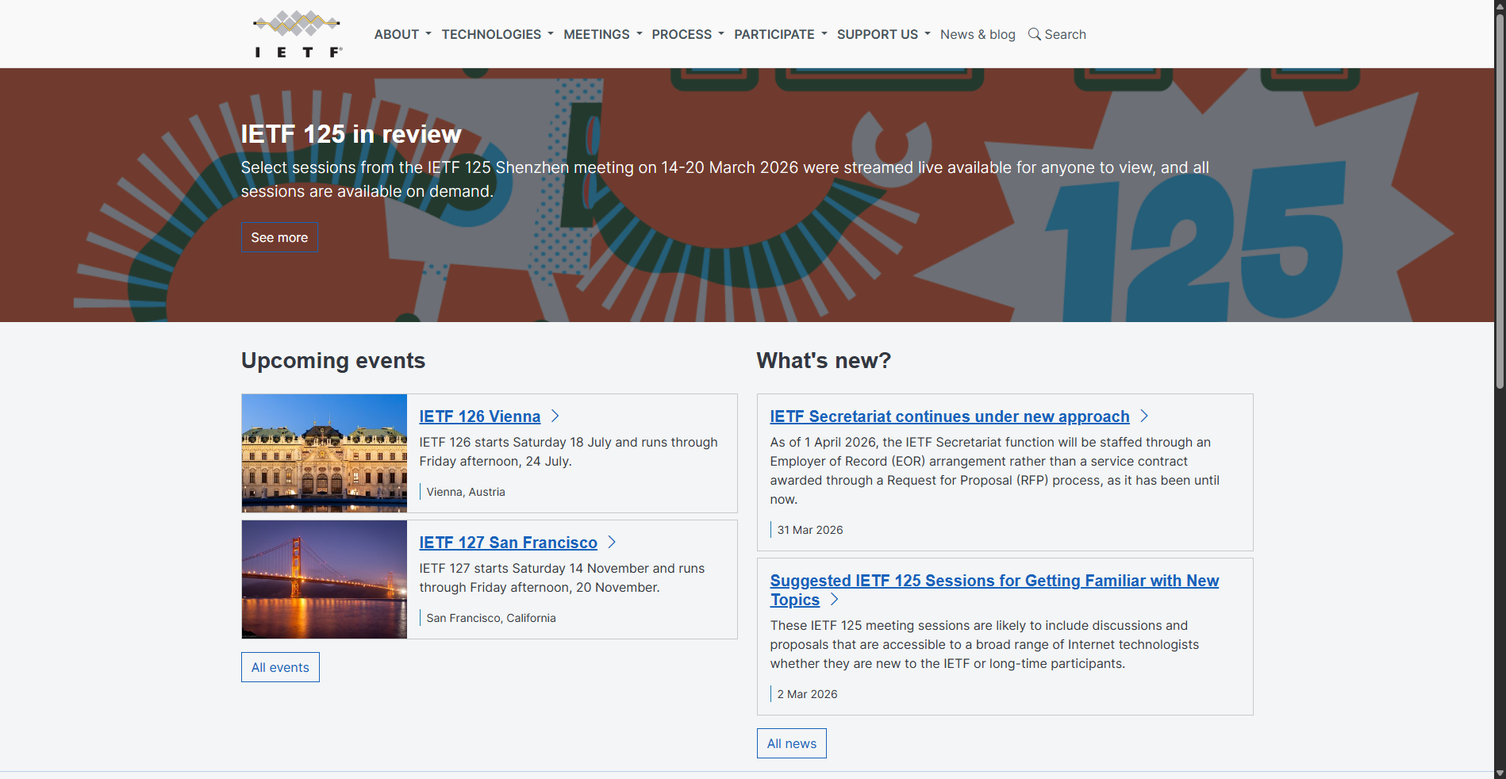general_button: (934, 18, 1022, 50), (241, 222, 318, 253), (241, 652, 320, 682), (757, 728, 827, 758)
general_image: (242, 520, 407, 639), (242, 394, 407, 512), (246, 4, 350, 63)
general_link: (770, 572, 1219, 608), (770, 408, 1152, 425), (246, 4, 350, 63), (419, 534, 620, 551), (419, 408, 563, 425)
icon_menu: (435, 18, 557, 56), (728, 18, 831, 56), (831, 18, 934, 56), (557, 18, 646, 56), (646, 18, 728, 56), (368, 18, 435, 56)
icon_search: (1022, 18, 1093, 50), (1028, 26, 1041, 42)
